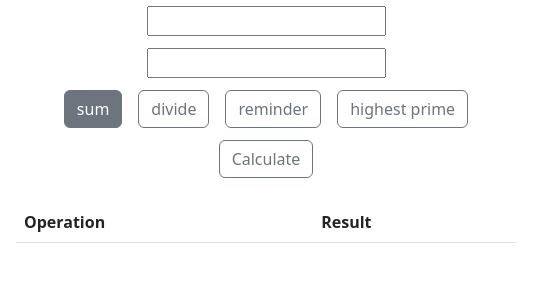
Test case: template spec › should calculate the reminder
The image size is (533, 301).
Type "5" into the 1st number field named "calculator-input".
click(267, 21); type("5")  # box [147,6,386,36]
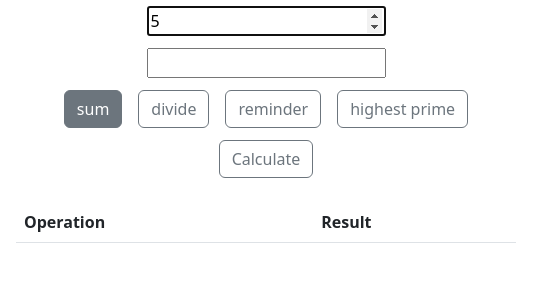
Type "2" into the 2nd number field named "calculator-input".
click(267, 63); type("2")  # box [147,48,386,78]
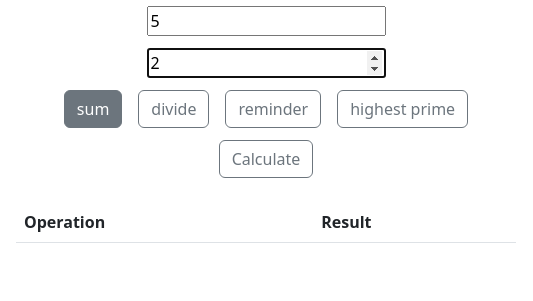
Click the button "reminder".
click(274, 109)  # box [226,90,322,128]
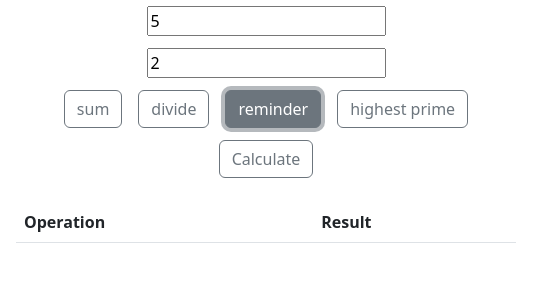
Click the button "Calculate".
click(267, 159)  # box [219,140,314,178]
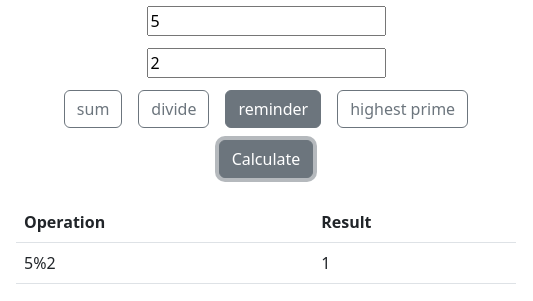
Expected: the text "5%2" is shown, [16,242,313,284]
Expected: the text "1" is shown, [313,242,516,284]
